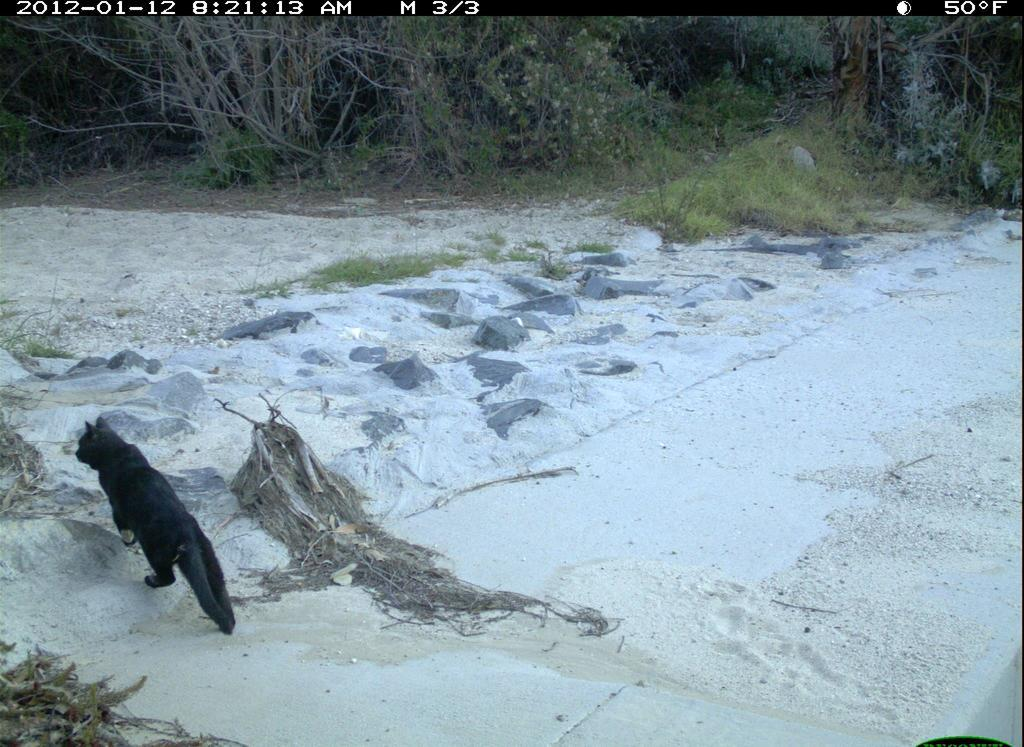cat: (70, 410, 254, 643)
